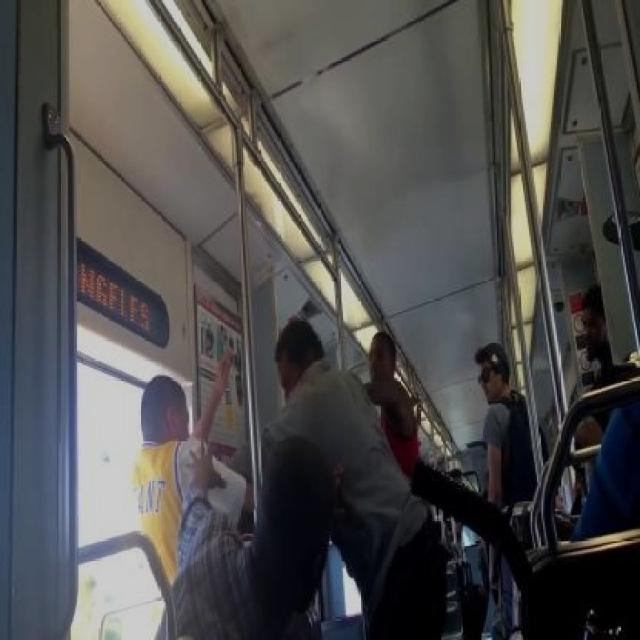fight: (137, 316, 444, 640)
non-fight: (476, 342, 536, 640)
